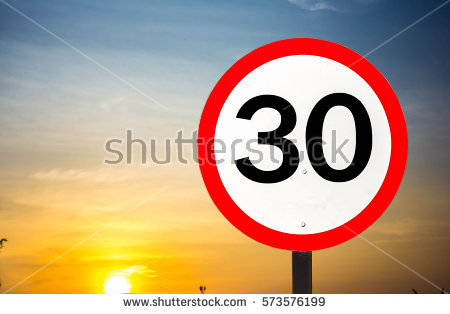Speed_limit_30km: (191, 37, 413, 246)
